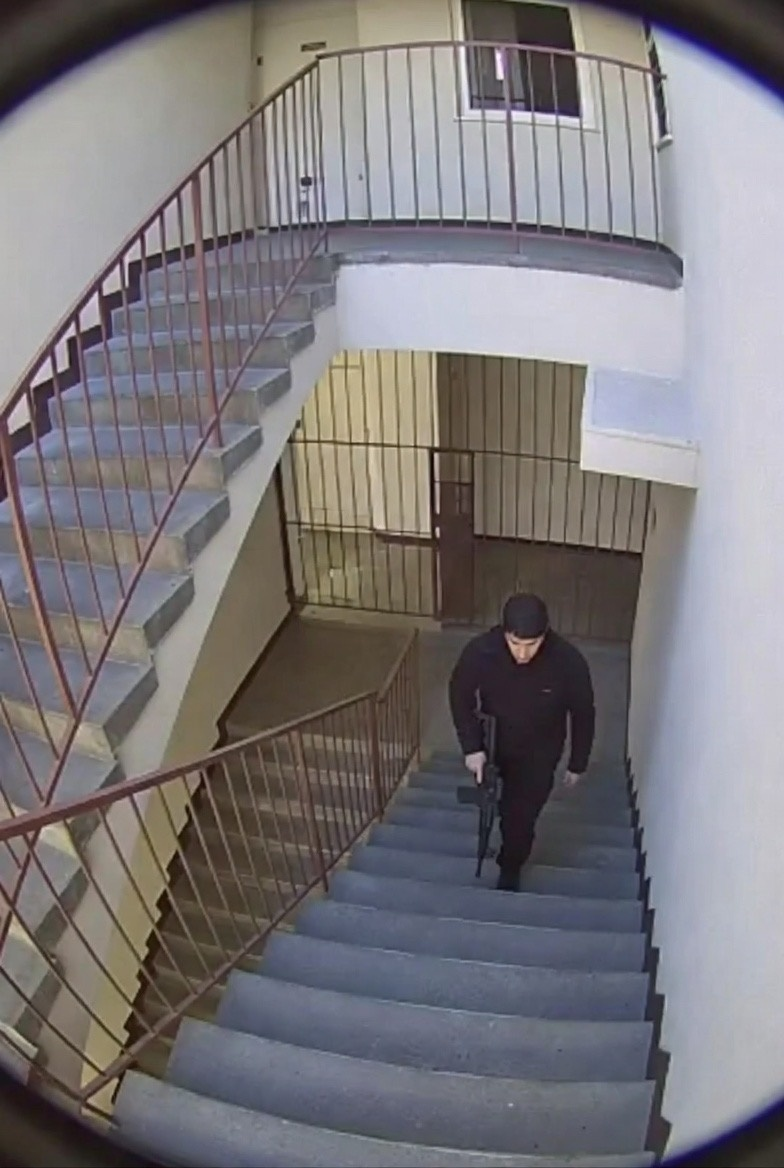gun: (455, 703, 511, 876)
person: (464, 570, 613, 894)
